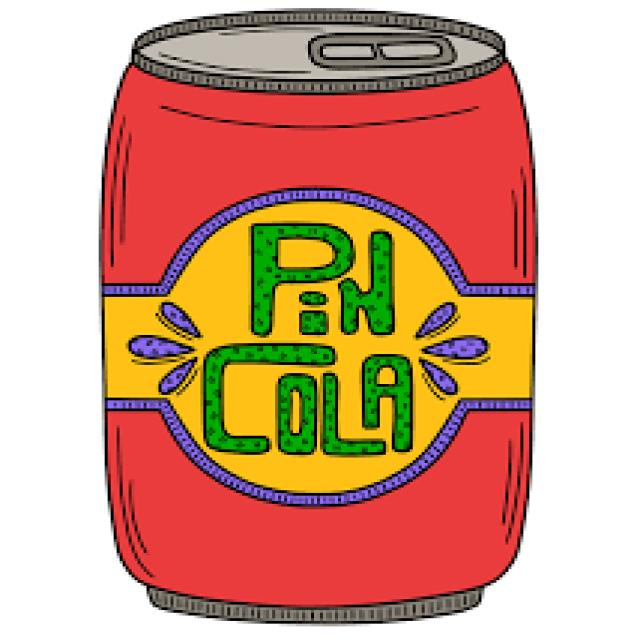Cans: (90, 3, 550, 629)
